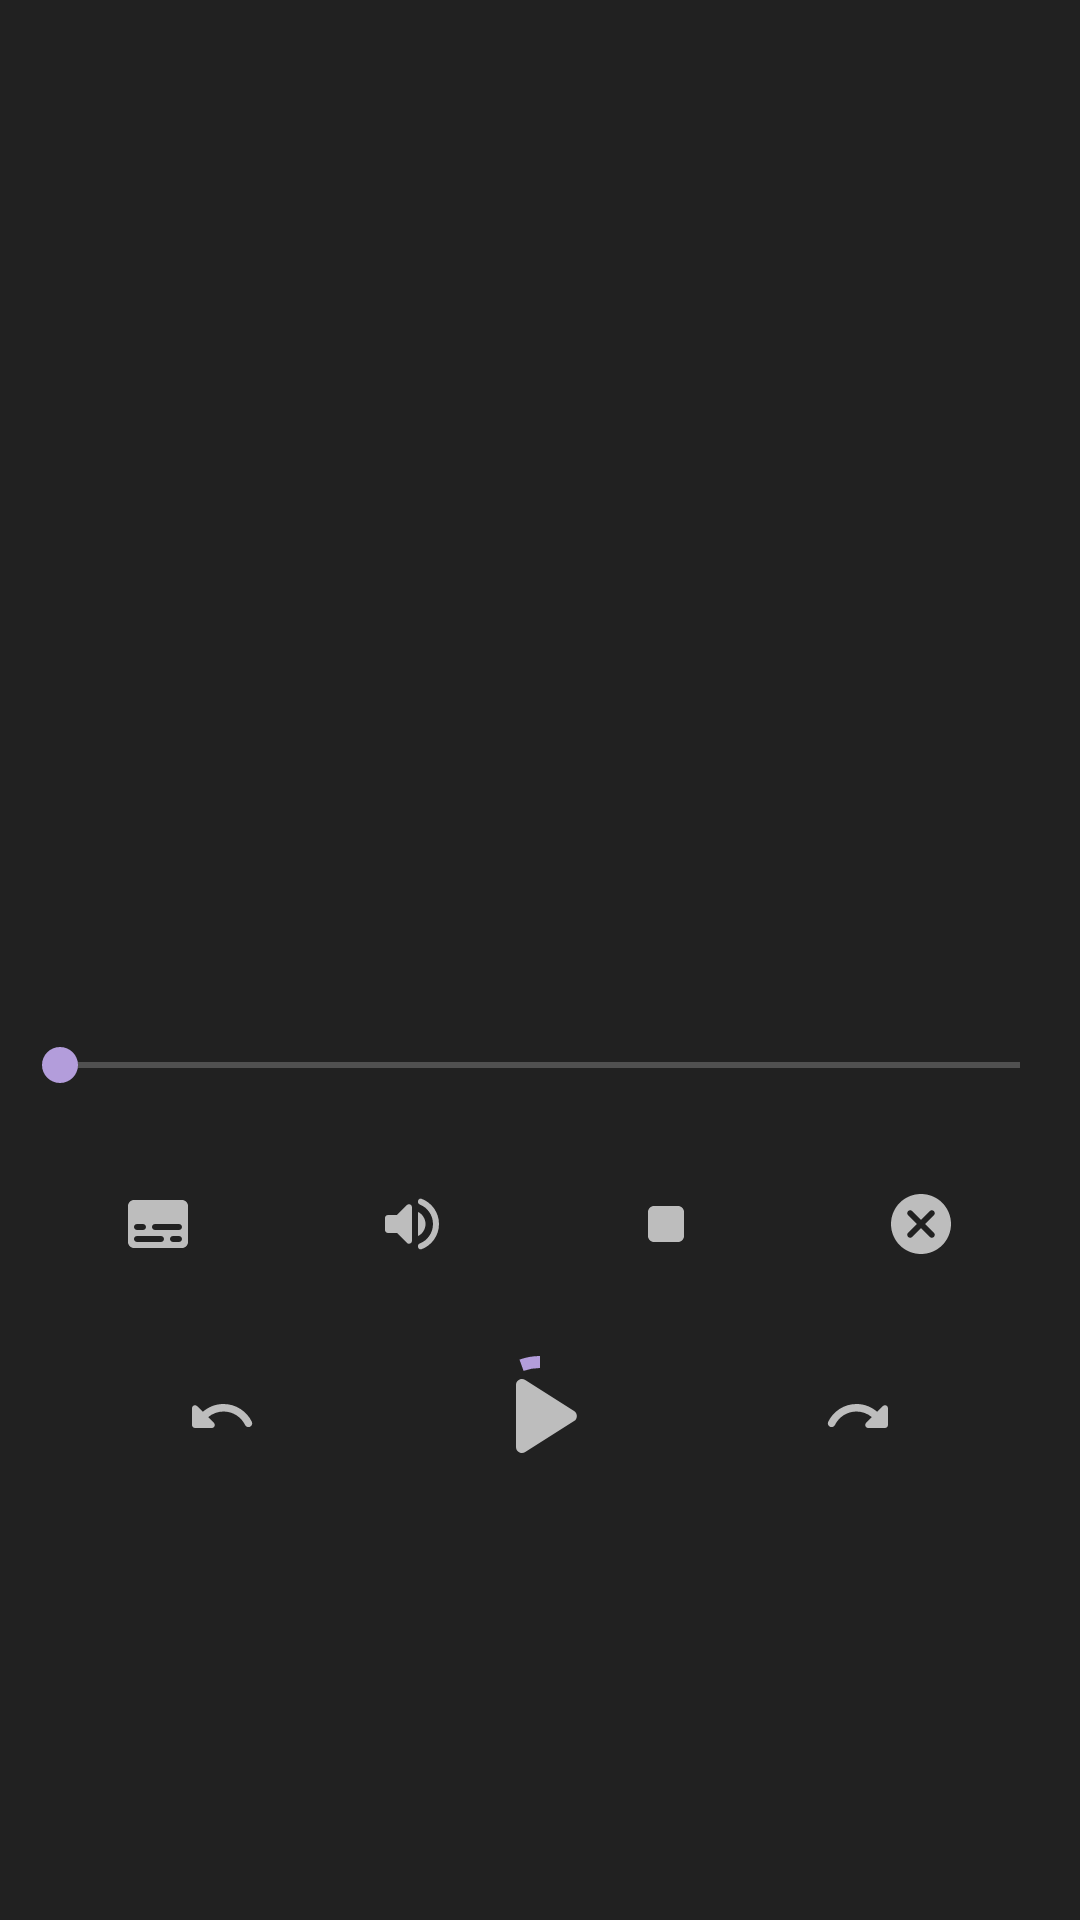

Icons on this 1080 x 1920 Android screen, each with its box as Rect(x1, y1, x2, y2):
Disconnect: Rect(891, 1194, 951, 1254)
Forward: Rect(828, 1404, 888, 1428)
Mute: Rect(385, 1198, 439, 1250)
Rewind: Rect(192, 1404, 253, 1428)
Stop: Rect(648, 1206, 684, 1242)
Subtitles: Rect(128, 1200, 188, 1248)
